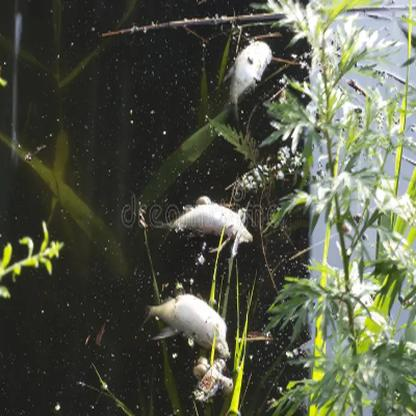deceased fish: (138, 289, 232, 360), (168, 198, 253, 245), (225, 39, 272, 114)
